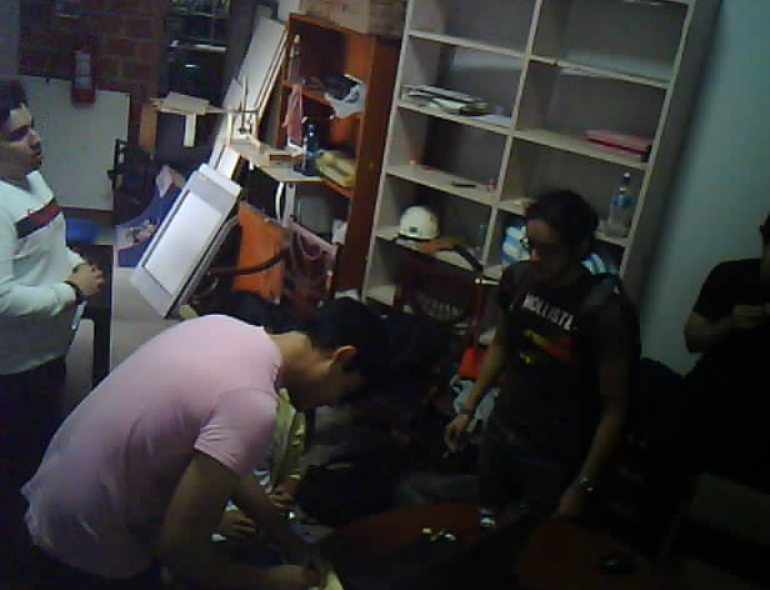person: (6, 274, 431, 586), (452, 132, 643, 547), (0, 64, 104, 458), (659, 199, 770, 489)
